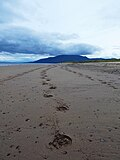human_footprint: (43, 76, 68, 111), (48, 117, 71, 149), (61, 67, 93, 80), (49, 131, 71, 148), (42, 71, 56, 97), (98, 79, 117, 88), (56, 99, 68, 111), (43, 91, 52, 97), (49, 84, 56, 88), (42, 81, 47, 84)
